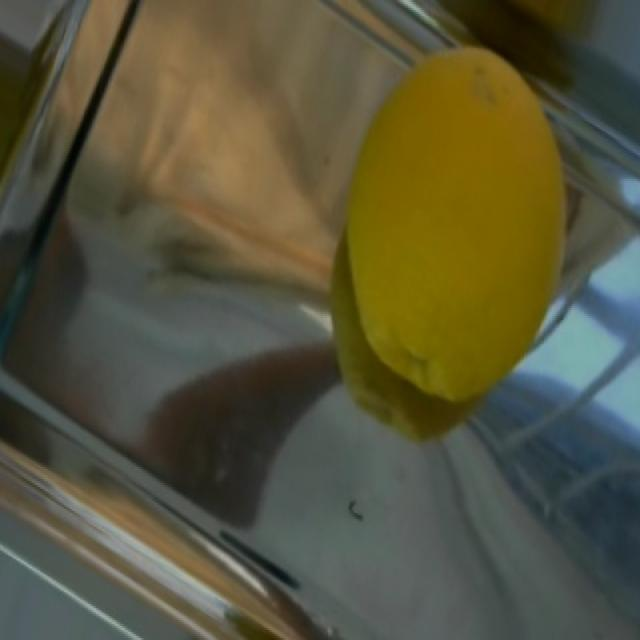Fruit: (317, 42, 595, 423)
